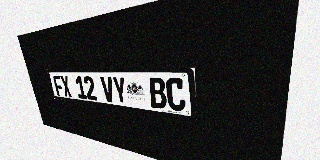1: (74, 76, 87, 99)
2: (83, 76, 97, 100)
B: (148, 77, 167, 109)
C: (165, 78, 186, 112)
F: (52, 75, 65, 96)
V: (100, 76, 116, 103)
X: (60, 76, 72, 97)
Y: (112, 77, 128, 104)
